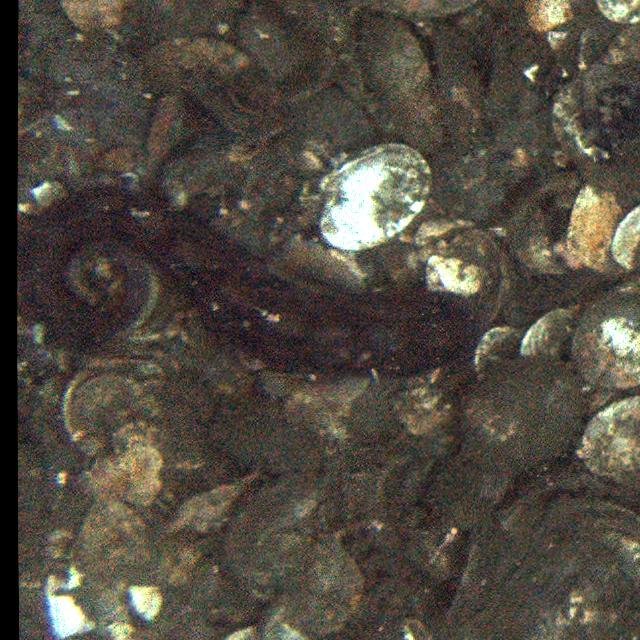roundfish: (30, 180, 454, 394)
